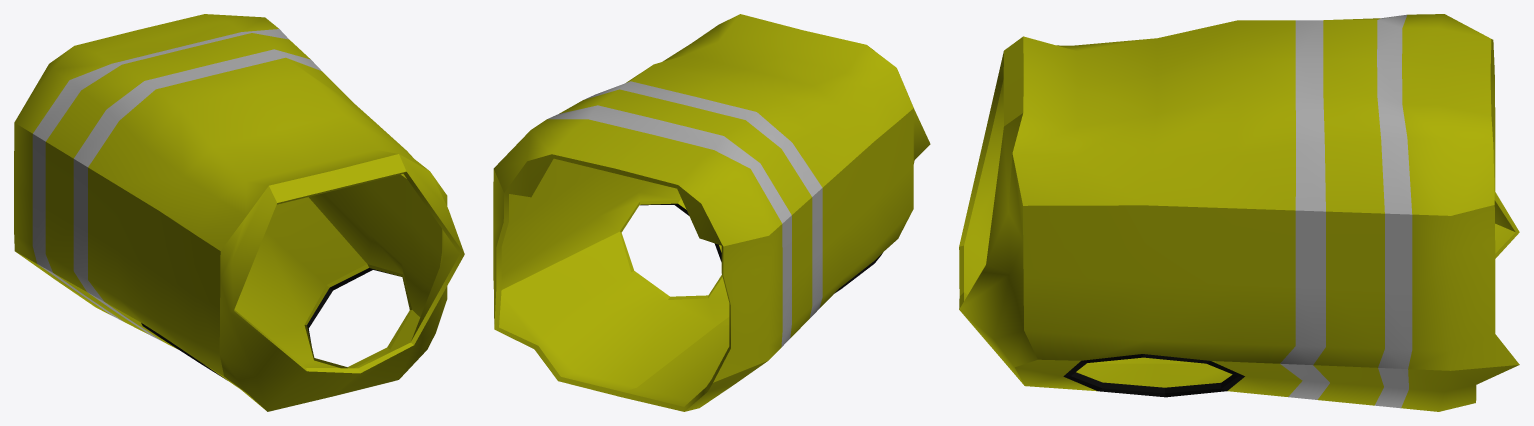
File: giletJaune 1.fbx
3 views of the same model, side by side, from view 1: azimuth 30°, elevation 25°; view 2: azimuth 150°, elevation 25°; view 3: azimuth 270°, elevation 25° (orthographic). The views are drawn at different scales.
Visible parts, largest first — view 1: pCube4; view 2: pCube4; view 3: pCube4.
Part boxes in pixels (x1=…): pCube4: x1=14, y1=14, x2=464, y2=411; pCube4: x1=493, y1=14, x2=930, y2=411; pCube4: x1=959, y1=14, x2=1519, y2=411.
Size of the model in its own units: 186 by 164 by 263.
